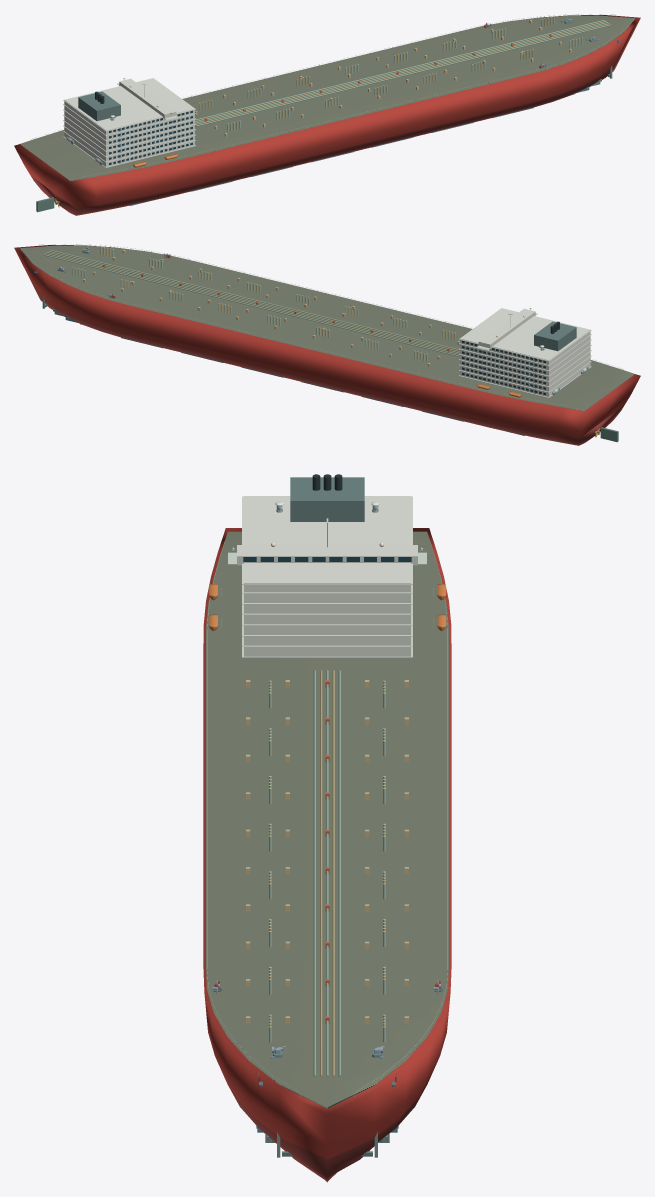
Rendered from dht-bronco.lod0.glb.
3 renders of one model, top to bottom at view 1: azimuth 30°, elevation 25°; view 2: azimuth 150°, elevation 25°; view 3: azimuth 270°, elevation 25°, orthographic. The views are drawn at different scales.
Parts seen in each view (by area): view 1: dht-bronco.structure.decks.main-strength-deck.1, dht-bronco.structure.hull.outer-hull-shell.1, dht-bronco.structure.hull.antifouling-underwater-shell.1, dht-bronco.accommodation.superstructure.deck-7-enclosure.1, dht-bronco.propulsion.exhaust.exhaust-casing.1, dht-bronco.cargo.deck-piping.cargo-pipeline-5.1, dht-bronco.cargo.deck-piping.cargo-pipeline-4.1, dht-bronco.cargo.deck-piping.cargo-pipeline-1.1, dht-bronco.cargo.deck-piping.cargo-pipeline-3.1, dht-bronco.cargo.deck-piping.cargo-pipeline-2.1, dht-bronco.navigation.bridge.wheelhouse.1, dht-bronco.accommodation.superstructure.deck-4-enclosure.1 (+5 smaller); view 2: dht-bronco.structure.decks.main-strength-deck.1, dht-bronco.structure.hull.outer-hull-shell.1, dht-bronco.structure.hull.antifouling-underwater-shell.1, dht-bronco.accommodation.superstructure.deck-7-enclosure.1, dht-bronco.propulsion.exhaust.exhaust-casing.1, dht-bronco.cargo.deck-piping.cargo-pipeline-1.1, dht-bronco.cargo.deck-piping.cargo-pipeline-2.1, dht-bronco.cargo.deck-piping.cargo-pipeline-5.1, dht-bronco.cargo.deck-piping.cargo-pipeline-3.1, dht-bronco.cargo.deck-piping.cargo-pipeline-4.1, dht-bronco.navigation.bridge.wheelhouse.1, dht-bronco.accommodation.superstructure.deck-4-enclosure.1 (+5 smaller); view 3: dht-bronco.structure.decks.main-strength-deck.1, dht-bronco.structure.hull.outer-hull-shell.1, dht-bronco.accommodation.superstructure.deck-7-enclosure.1, dht-bronco.propulsion.exhaust.exhaust-casing.1, dht-bronco.navigation.bridge.wheelhouse.1, dht-bronco.structure.hull.antifouling-underwater-shell.1, dht-bronco.accommodation.superstructure.deck-1-enclosure.1, dht-bronco.accommodation.superstructure.deck-2-enclosure.1, dht-bronco.accommodation.superstructure.deck-3-enclosure.1, dht-bronco.accommodation.superstructure.deck-4-enclosure.1, dht-bronco.accommodation.superstructure.deck-5-enclosure.1, dht-bronco.accommodation.superstructure.deck-6-enclosure.1 (+5 smaller).
Boxes of the visible parts, box(x1,y1,x2,y2) form: dht-bronco.structure.decks.main-strength-deck.1: box(20, 15, 634, 181); dht-bronco.structure.hull.outer-hull-shell.1: box(14, 15, 640, 208); dht-bronco.structure.hull.antifouling-underwater-shell.1: box(31, 54, 622, 215); dht-bronco.accommodation.superstructure.deck-7-enclosure.1: box(64, 78, 194, 134); dht-bronco.propulsion.exhaust.exhaust-casing.1: box(78, 91, 120, 121); dht-bronco.cargo.deck-piping.cargo-pipeline-5.1: box(195, 24, 611, 126); dht-bronco.cargo.deck-piping.cargo-pipeline-4.1: box(195, 23, 609, 125); dht-bronco.cargo.deck-piping.cargo-pipeline-1.1: box(195, 20, 604, 120); dht-bronco.cargo.deck-piping.cargo-pipeline-3.1: box(195, 22, 607, 123); dht-bronco.cargo.deck-piping.cargo-pipeline-2.1: box(195, 21, 606, 122); dht-bronco.navigation.bridge.wheelhouse.1: box(119, 78, 176, 118); dht-bronco.accommodation.superstructure.deck-4-enclosure.1: box(64, 116, 194, 150); dht-bronco.structure.decks.main-strength-deck.1: box(20, 245, 634, 411); dht-bronco.structure.hull.outer-hull-shell.1: box(14, 245, 640, 438); dht-bronco.structure.hull.antifouling-underwater-shell.1: box(32, 284, 623, 445); dht-bronco.accommodation.superstructure.deck-7-enclosure.1: box(460, 308, 590, 364); dht-bronco.propulsion.exhaust.exhaust-casing.1: box(534, 321, 576, 351); dht-bronco.cargo.deck-piping.cargo-pipeline-1.1: box(43, 254, 459, 356); dht-bronco.cargo.deck-piping.cargo-pipeline-2.1: box(45, 253, 459, 355); dht-bronco.cargo.deck-piping.cargo-pipeline-5.1: box(50, 250, 459, 350); dht-bronco.cargo.deck-piping.cargo-pipeline-3.1: box(47, 252, 459, 353); dht-bronco.cargo.deck-piping.cargo-pipeline-4.1: box(48, 251, 459, 352); dht-bronco.navigation.bridge.wheelhouse.1: box(478, 308, 535, 348); dht-bronco.accommodation.superstructure.deck-4-enclosure.1: box(460, 346, 590, 380); dht-bronco.structure.decks.main-strength-deck.1: box(206, 531, 448, 1108); dht-bronco.structure.hull.outer-hull-shell.1: box(203, 528, 451, 1159); dht-bronco.accommodation.superstructure.deck-7-enclosure.1: box(244, 496, 410, 592); dht-bronco.propulsion.exhaust.exhaust-casing.1: box(290, 477, 364, 521); dht-bronco.navigation.bridge.wheelhouse.1: box(237, 545, 417, 565); dht-bronco.structure.hull.antifouling-underwater-shell.1: box(223, 1075, 431, 1182); dht-bronco.accommodation.superstructure.deck-1-enclosure.1: box(244, 647, 410, 656); dht-bronco.accommodation.superstructure.deck-2-enclosure.1: box(244, 636, 410, 645); dht-bronco.accommodation.superstructure.deck-3-enclosure.1: box(244, 625, 410, 634); dht-bronco.accommodation.superstructure.deck-4-enclosure.1: box(244, 615, 410, 624); dht-bronco.accommodation.superstructure.deck-5-enclosure.1: box(244, 604, 410, 613); dht-bronco.accommodation.superstructure.deck-6-enclosure.1: box(244, 593, 410, 602).
Size of the model in its own units: 337 by 54.58 by 60.
